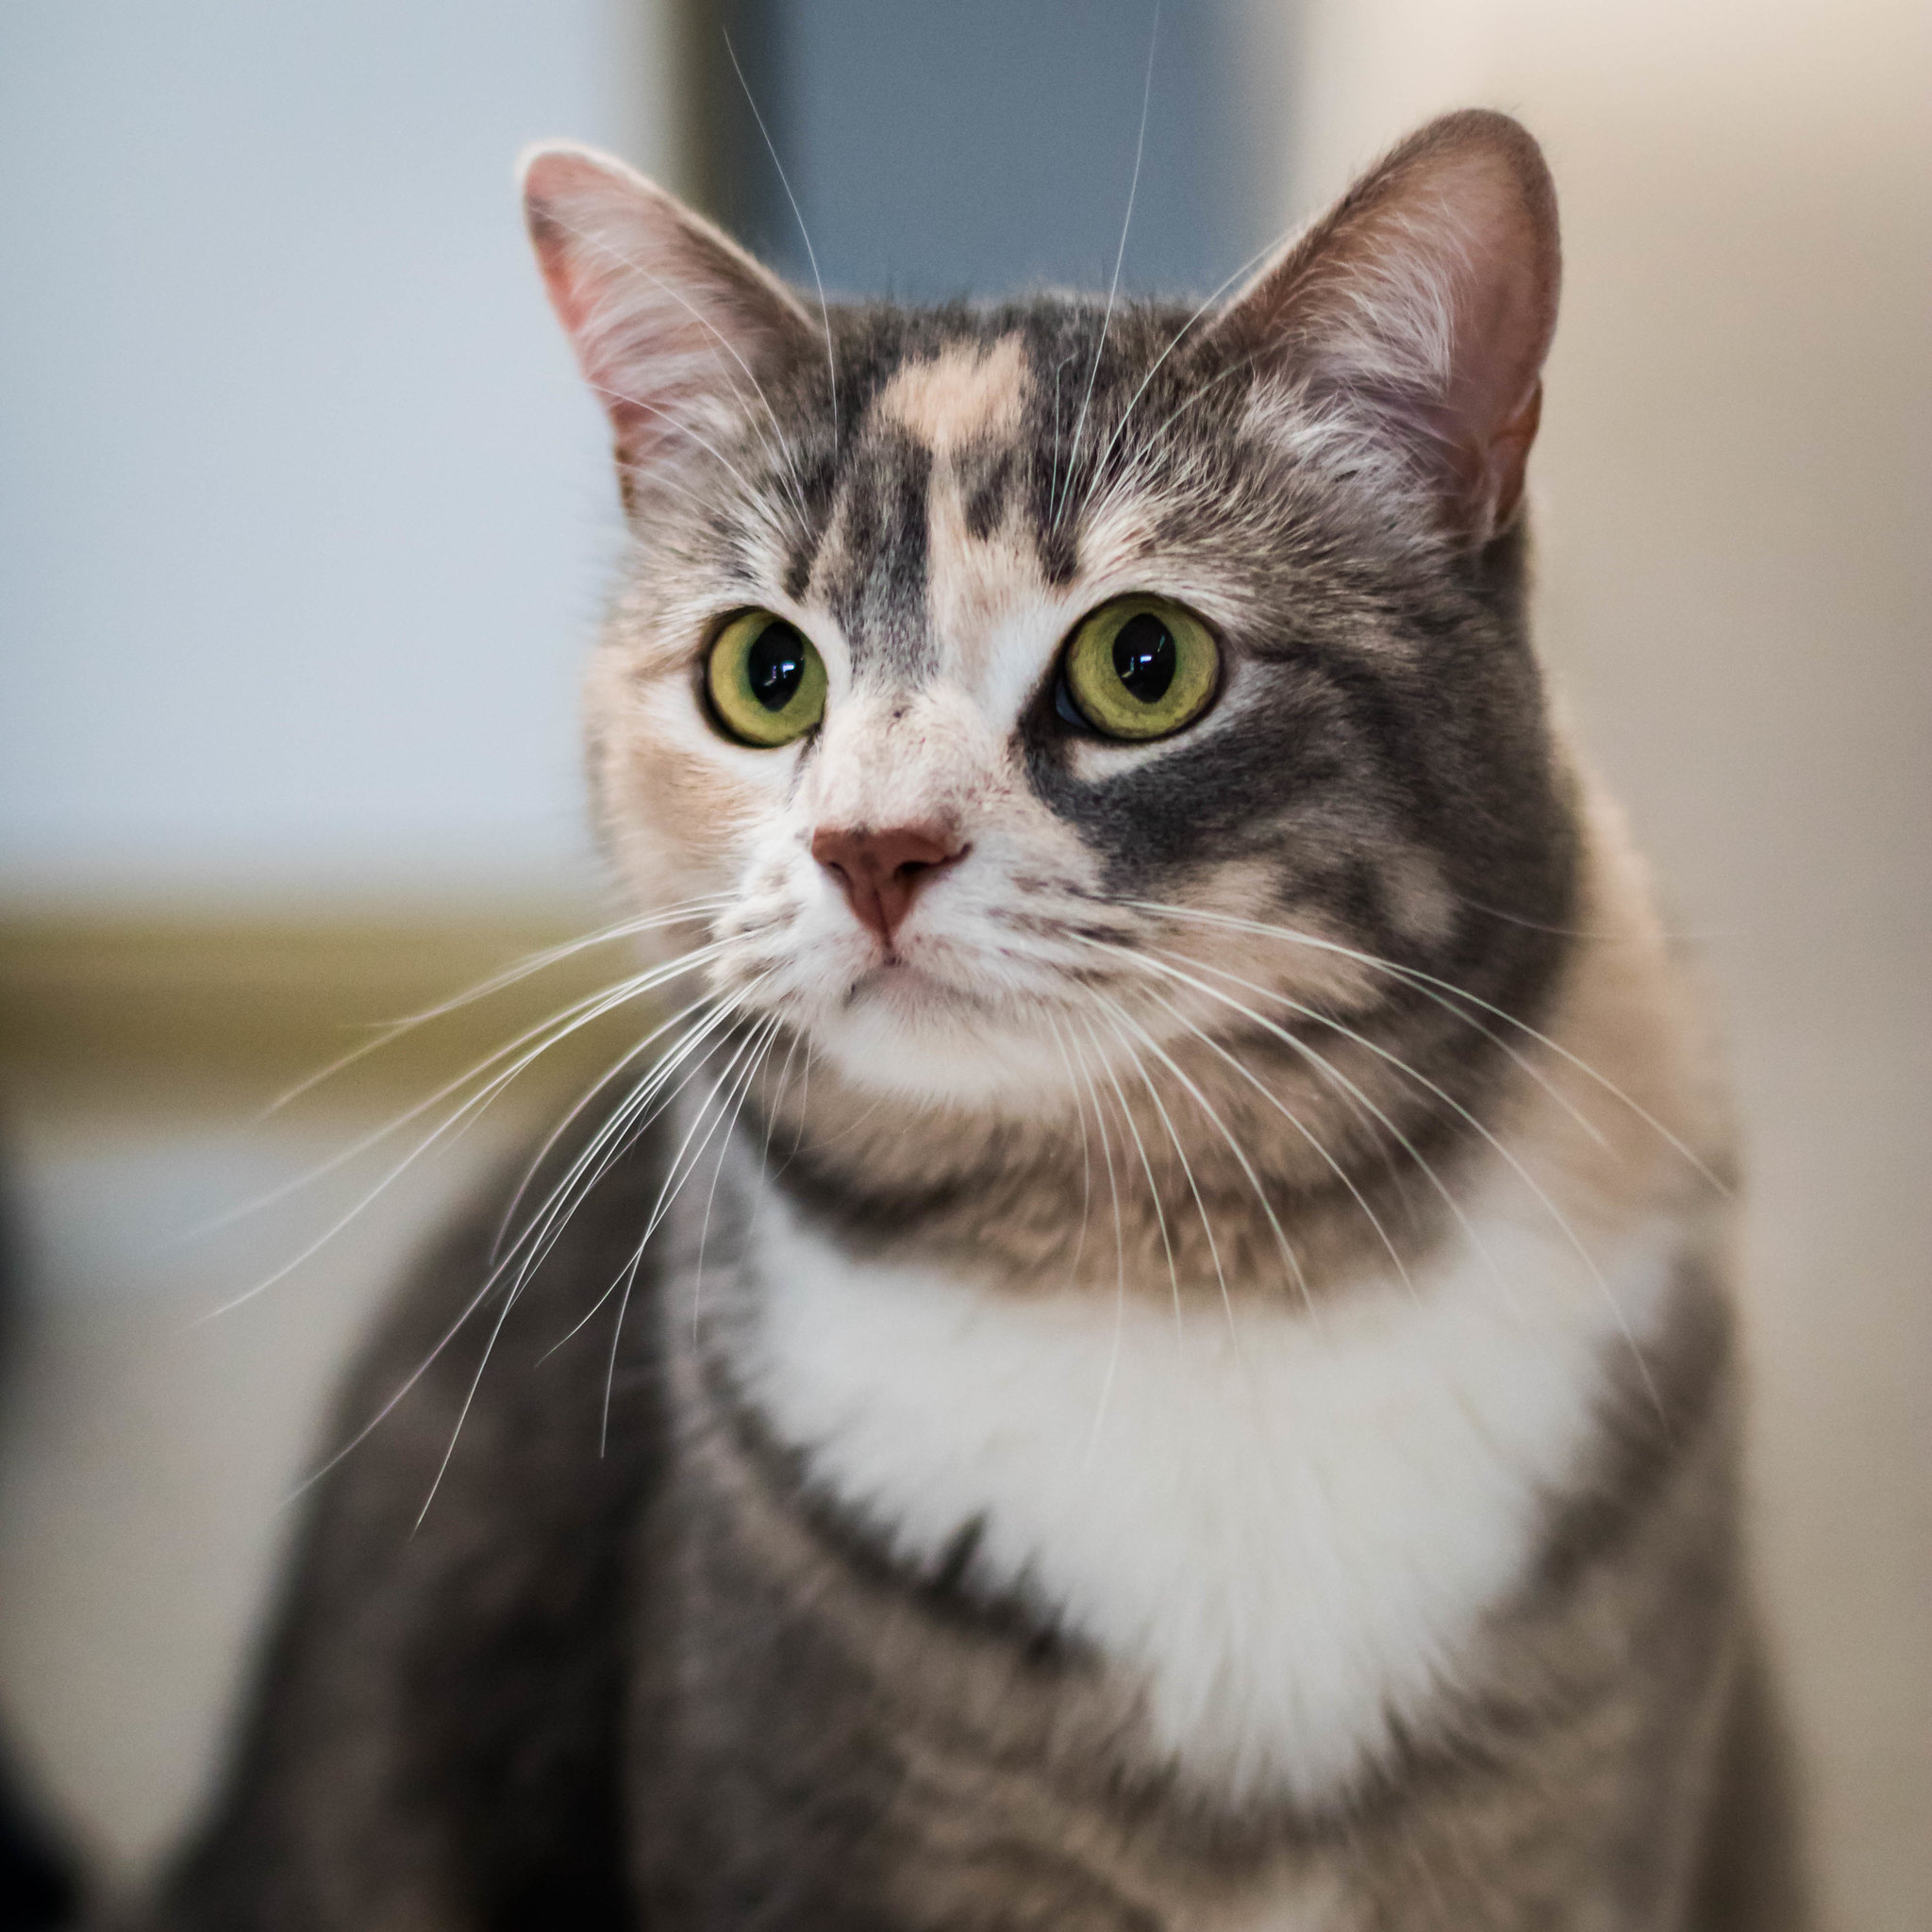cat: (195, 140, 1822, 1932)
